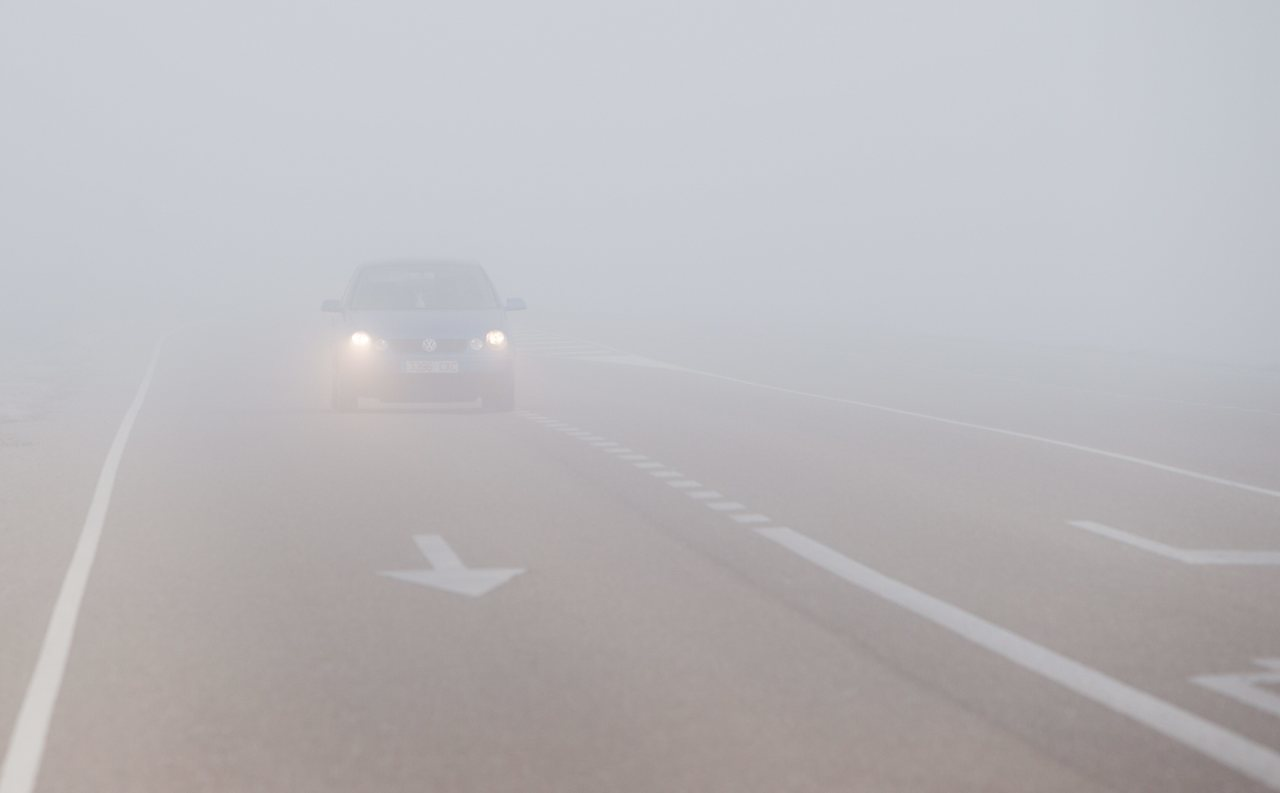car: (319, 258, 519, 414)
